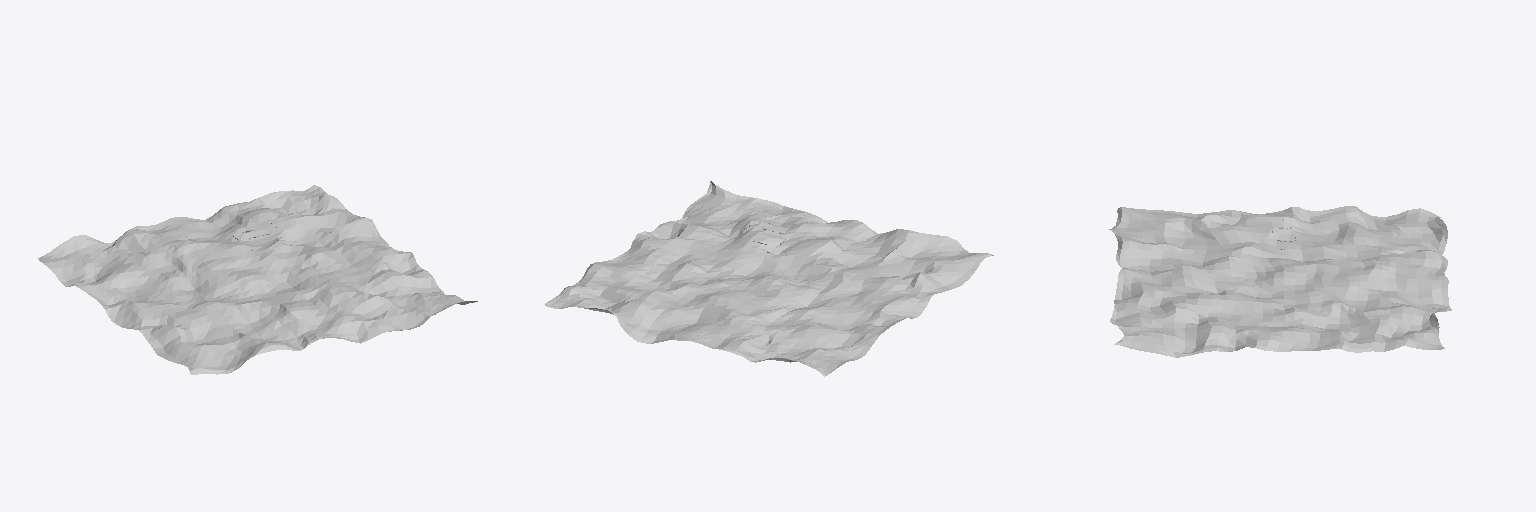
File: monkey.obj
3 renders of one model, left to right at view 1: azimuth 30°, elevation 25°; view 2: azimuth 150°, elevation 25°; view 3: azimuth 270°, elevation 25°, orthographic.
Parts seen in each view (by area): view 1: Plane; view 2: Plane; view 3: Plane.
Boxes of the visible parts, x1,y1,x2,y2 form: Plane: [38, 185, 477, 374]; Plane: [545, 181, 993, 376]; Plane: [1109, 206, 1451, 357].
Bounding box in the file's own units: 157 × 35.53 × 161.